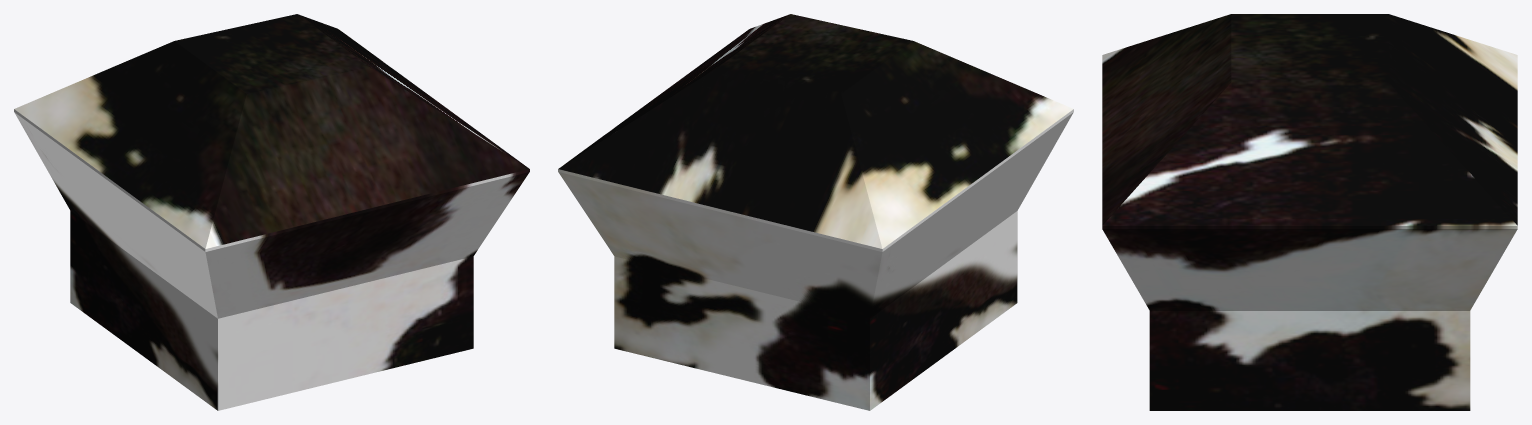
3 views of the same model, side by side, from view 1: azimuth 30°, elevation 25°; view 2: azimuth 150°, elevation 25°; view 3: azimuth 270°, elevation 25° (orthographic). The views are drawn at different scales.
Parts seen in each view (by area): view 1: Cube; view 2: Cube; view 3: Cube.
Boxes of the visible parts, left/top/right/bottom form: Cube: left=14, top=14, right=529, bottom=410; Cube: left=558, top=14, right=1073, bottom=410; Cube: left=1102, top=14, right=1517, bottom=410.
Size of the model in its own units: 2.54 by 2.04 by 2.59.
1 material, 1 textured.
